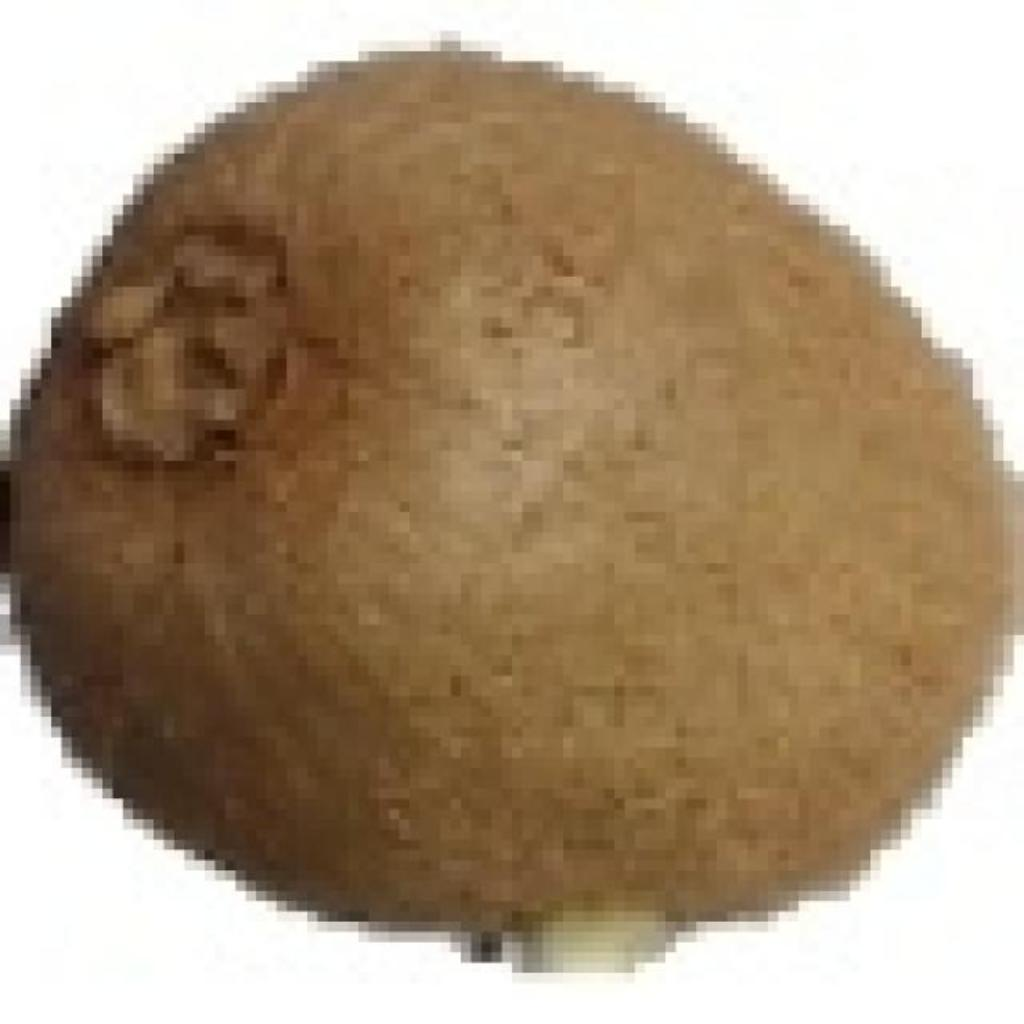kiwi: (41, 41, 1014, 942)
